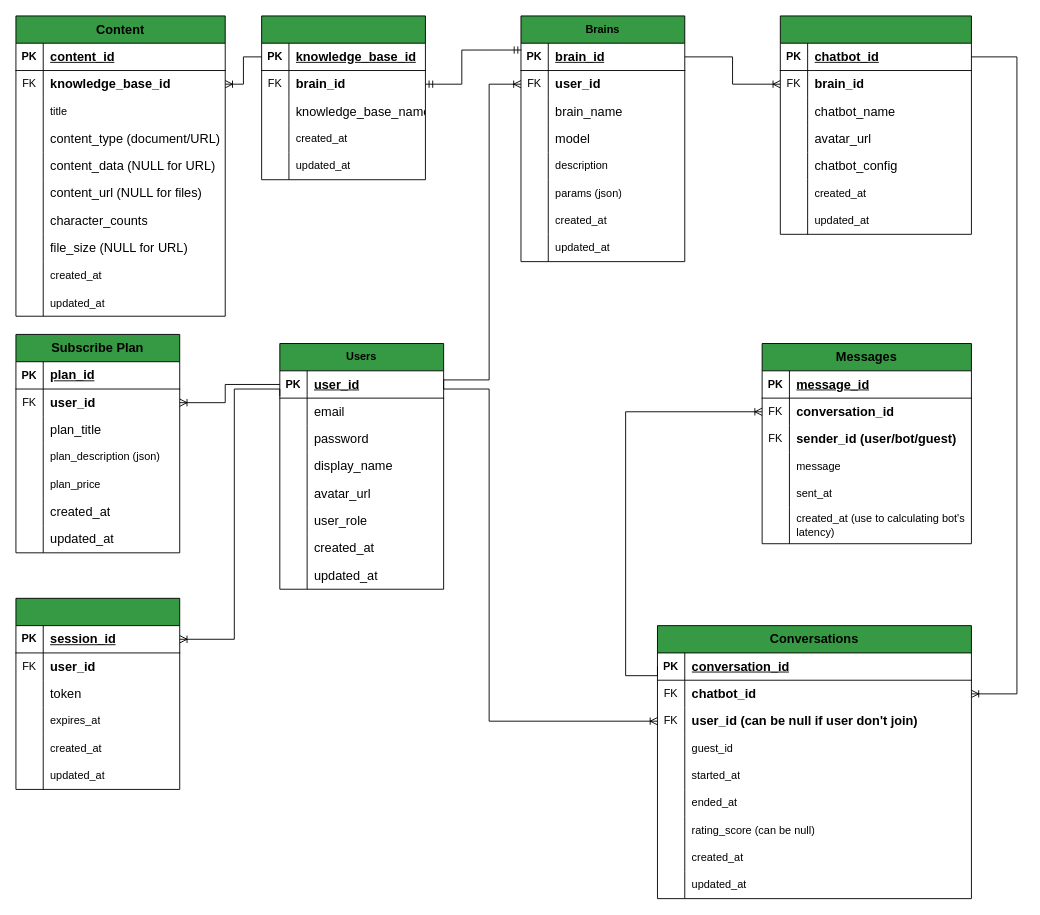
Image size: 1040x915. Some labels were removed from this diagram. Here are the shapes that lost their labels. From the top down, the box of each, then its label:
(261, 15, 425, 180): KnowledgeBases
(779, 15, 971, 234): Chatbots
(15, 597, 180, 789): Sessions
